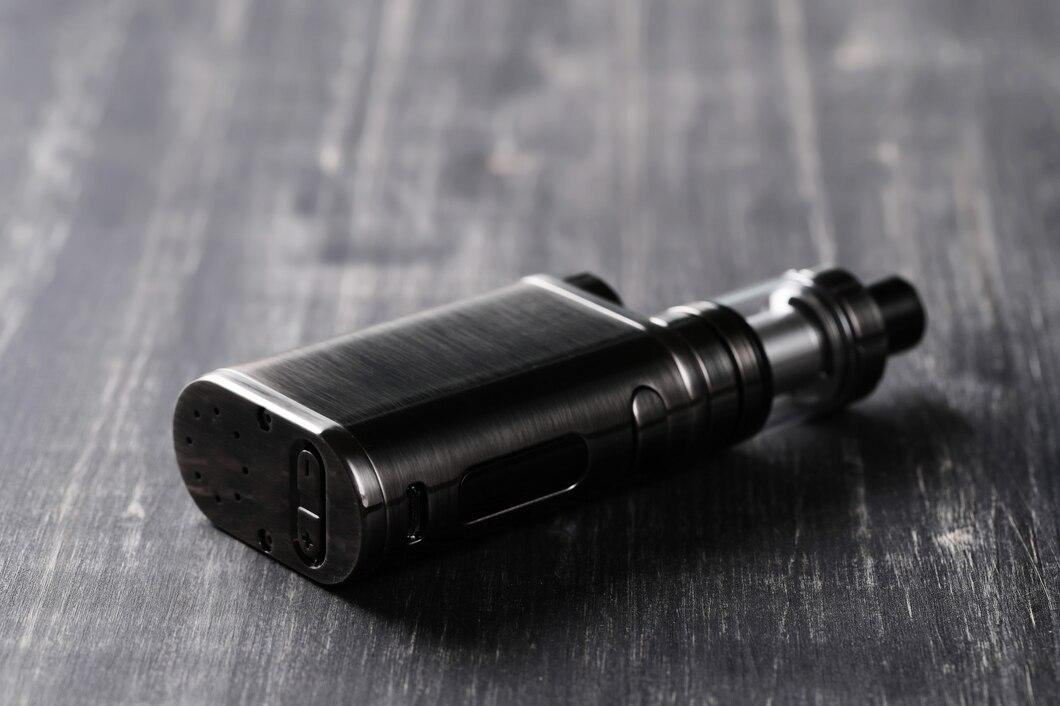Vape: (173, 266, 925, 586)
